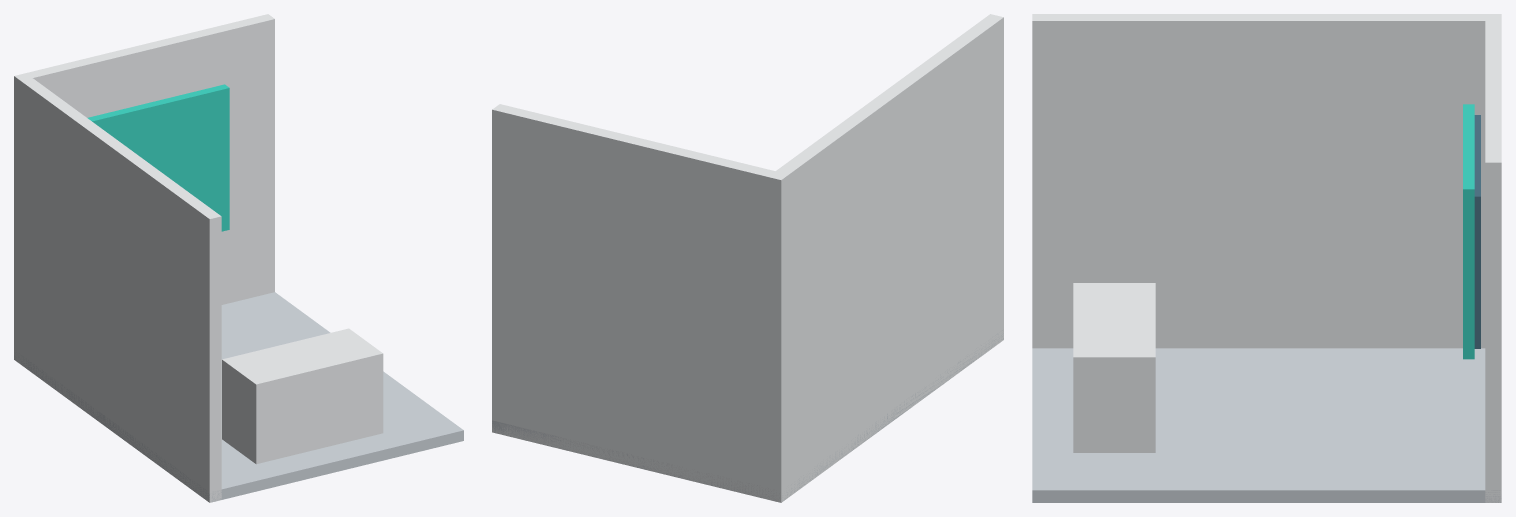
3 renders of one model, left to right at view 1: azimuth 30°, elevation 25°; view 2: azimuth 150°, elevation 25°; view 3: azimuth 270°, elevation 25°, orthographic. The views are drawn at different scales.
Parts seen in each view (by area): view 1: Exhibition Booth Concept; view 2: Exhibition Booth Concept; view 3: Exhibition Booth Concept.
Part boxes in pixels (x1,y1,x2,y2): Exhibition Booth Concept: [14, 14, 463, 502]; Exhibition Booth Concept: [492, 14, 1003, 502]; Exhibition Booth Concept: [1032, 14, 1501, 502].
Bounding box in the file's own units: 3 × 3.2 × 4.
